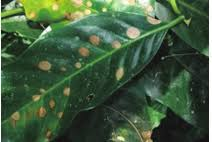ojo de gallo: (8, 21, 143, 126)
